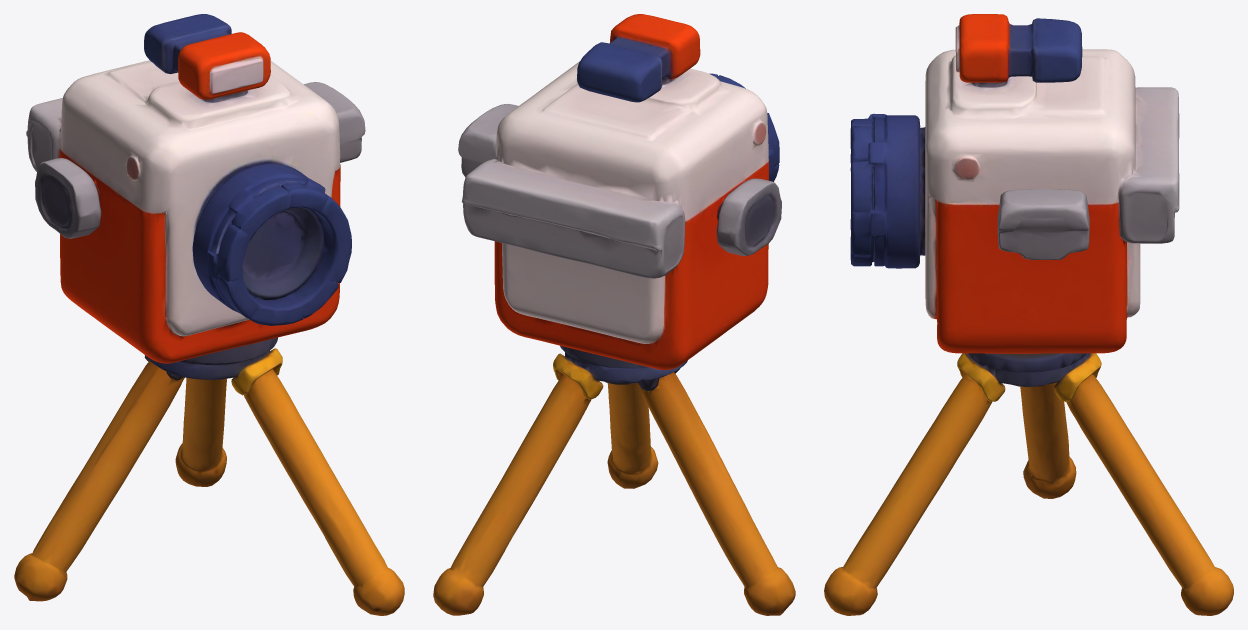
Rendered from tripod.glb.
3 renders of one model, left to right at view 1: azimuth 30°, elevation 25°; view 2: azimuth 150°, elevation 25°; view 3: azimuth 270°, elevation 25°, orthographic. The views are drawn at different scales.
Parts seen in each view (by area): view 1: tripo_node_0313f8ab-e72d-40b7-b80c-1f72aa146fae; view 2: tripo_node_0313f8ab-e72d-40b7-b80c-1f72aa146fae; view 3: tripo_node_0313f8ab-e72d-40b7-b80c-1f72aa146fae.
Part boxes in pixels (x1=…): tripo_node_0313f8ab-e72d-40b7-b80c-1f72aa146fae: x1=14, y1=14, x2=404, y2=615; tripo_node_0313f8ab-e72d-40b7-b80c-1f72aa146fae: x1=433, y1=14, x2=795, y2=615; tripo_node_0313f8ab-e72d-40b7-b80c-1f72aa146fae: x1=824, y1=14, x2=1233, y2=615.
Size of the model in its own units: 0.6251 by 1 by 0.6843.
1 material, 1 textured.
